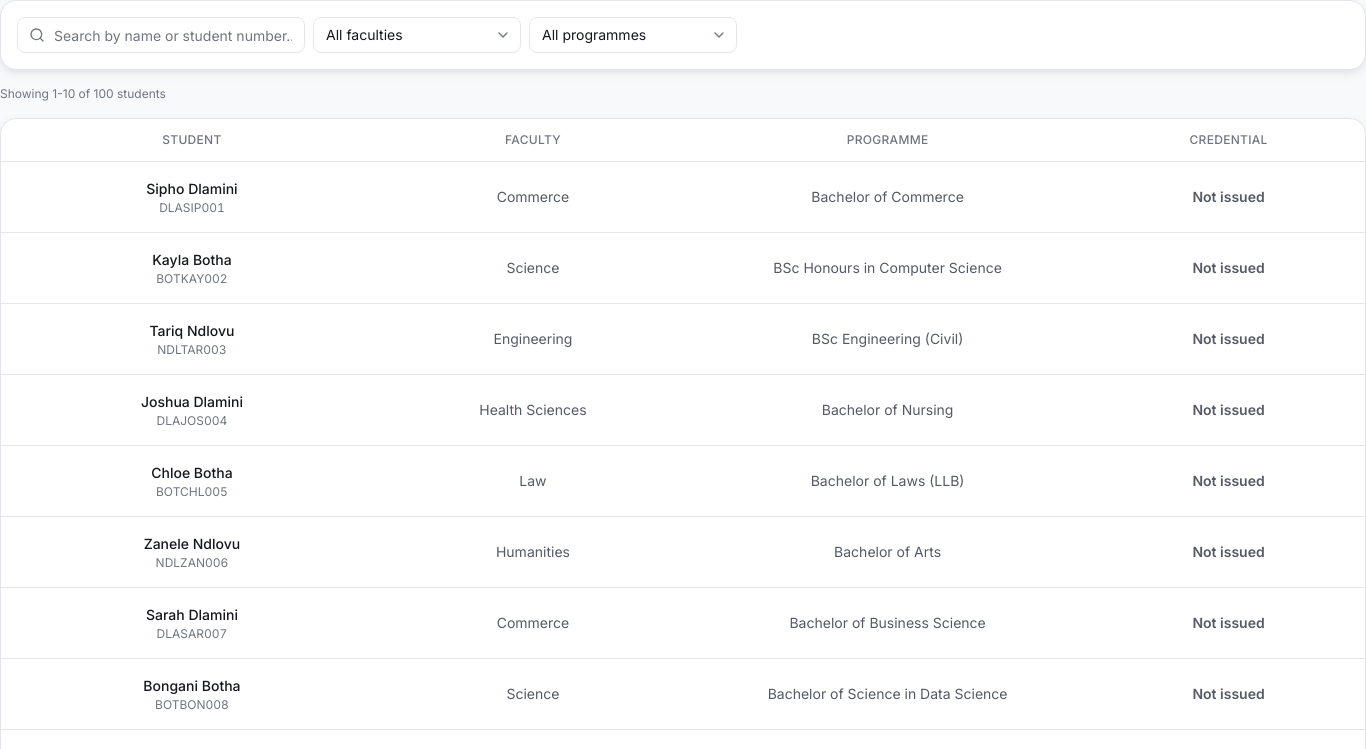
Scenario: IndividualIssuanceSearch › filters by student number
This screenshot has width=1366, height=749.
In the field with placeholder "Search by name or student number...": [161, 35] box [17,17,305,53], type "WOOJOS100"
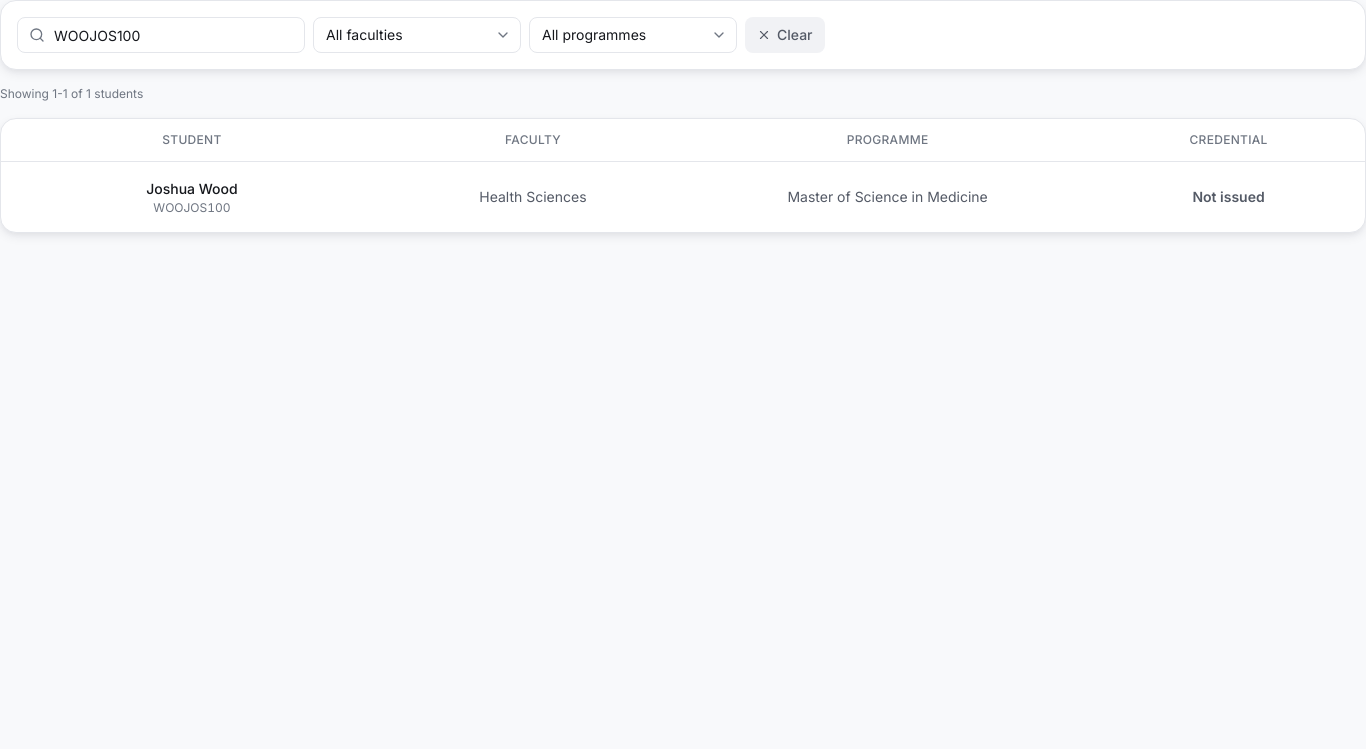
expect the text "Showing 1-1 of 1 students" is shown: met, box [0,86,143,101]
expect the text "WOOJOS100" is shown: met, box [153,200,231,216]
